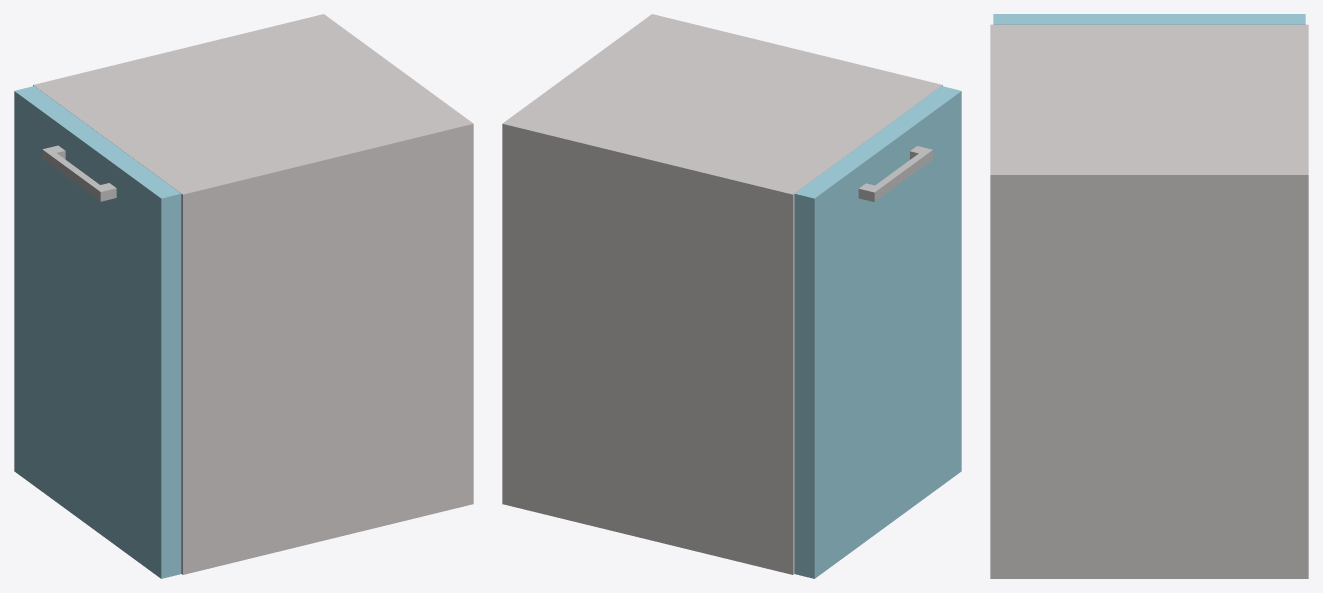
Rendered from Up_Counter.fbx.
3 renders of one model, left to right at view 1: azimuth 30°, elevation 25°; view 2: azimuth 150°, elevation 25°; view 3: azimuth 270°, elevation 25°, orthographic. The views are drawn at different scales.
Parts seen in each view (by area): view 1: Up_Counter, Door - Up_Counter; view 2: Up_Counter, Door - Up_Counter; view 3: Up_Counter, Door - Up_Counter.
Boxes of the visible parts, x1,y1,x2,y2 form: Up_Counter: (33, 14, 473, 574); Door - Up_Counter: (14, 86, 181, 578); Up_Counter: (502, 14, 942, 574); Door - Up_Counter: (794, 86, 961, 578); Up_Counter: (990, 24, 1308, 578); Door - Up_Counter: (993, 14, 1305, 24).
Bounding box in the file's own units: 62.97 × 70 × 50.
